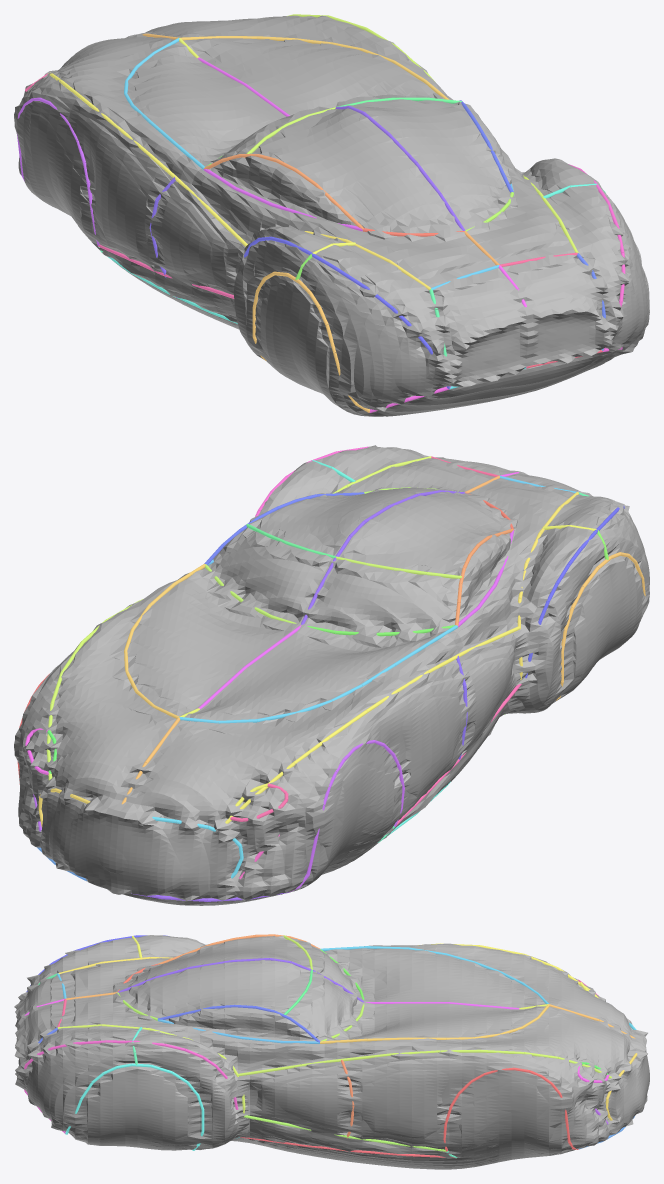
File: ils_roadster.gltf
3 views of the same model, one above another, from view 1: azimuth 30°, elevation 25°; view 2: azimuth 150°, elevation 25°; view 3: azimuth 270°, elevation 25° (orthographic). The views are drawn at different scales.
Size of the model in its own units: 0.4075 by 0.3042 by 0.9157.
